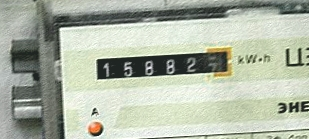1: (101, 61, 111, 78)
2: (185, 56, 196, 73)
5: (122, 60, 133, 77)
7: (207, 61, 217, 73)
8: (164, 58, 175, 75), (143, 60, 154, 76)
screen: (88, 42, 238, 90)
